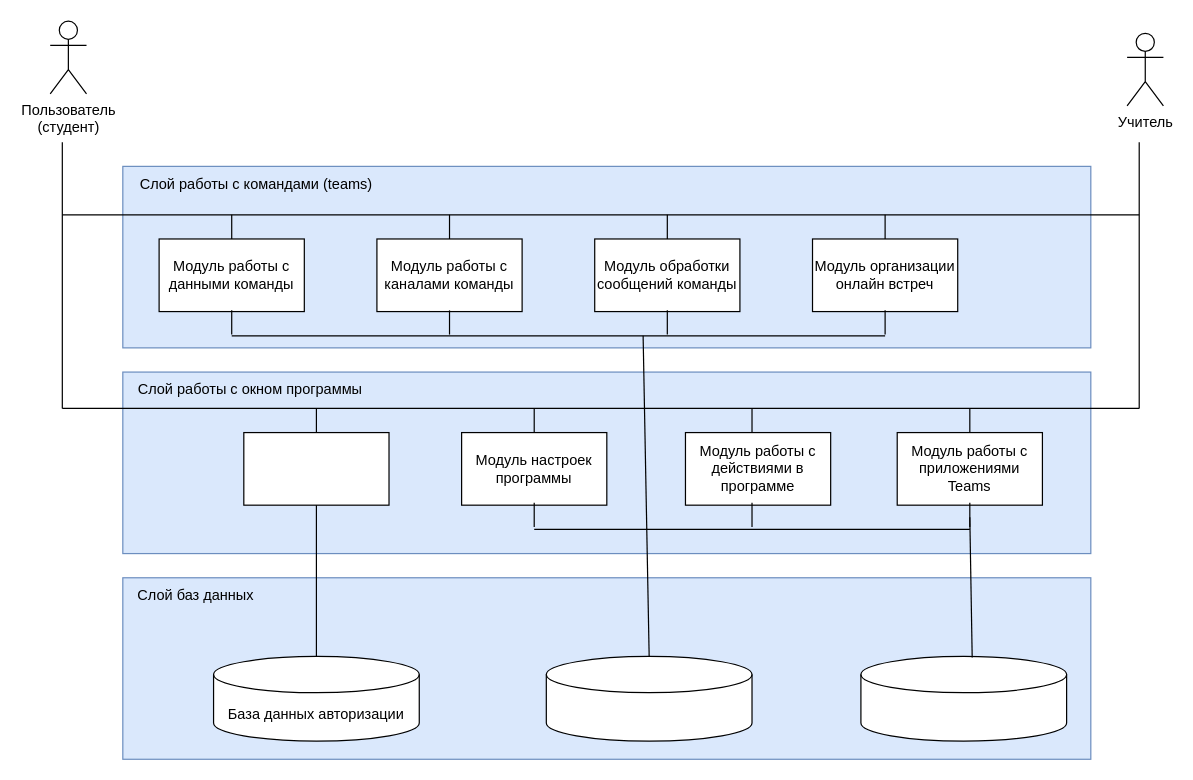
Image size: 1193x780. Some labels were removed from this diagram. The shapes that lost their labels are listed below. From the top down, each one's centre as x and y in pixels, then its label:
At point (316, 468): "Модуль авторизации и учетных записей".
At point (648, 698): "База данных команд".
At point (963, 698): "База данных настроек программы".
